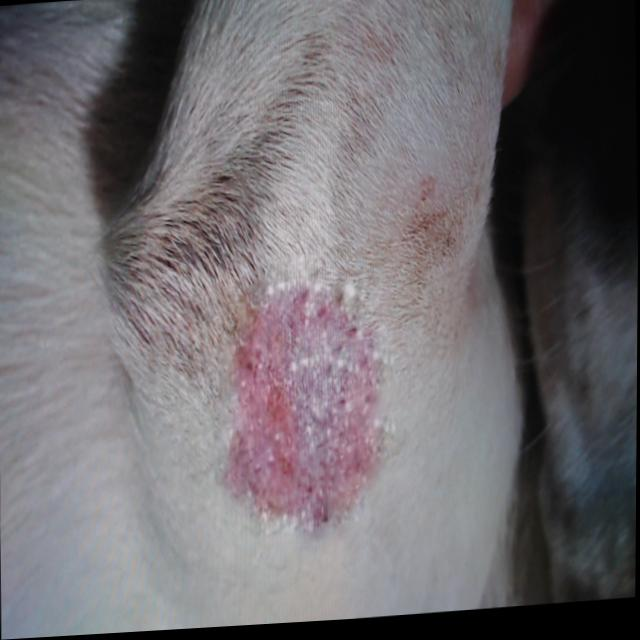ringworm: (218, 267, 398, 541)
